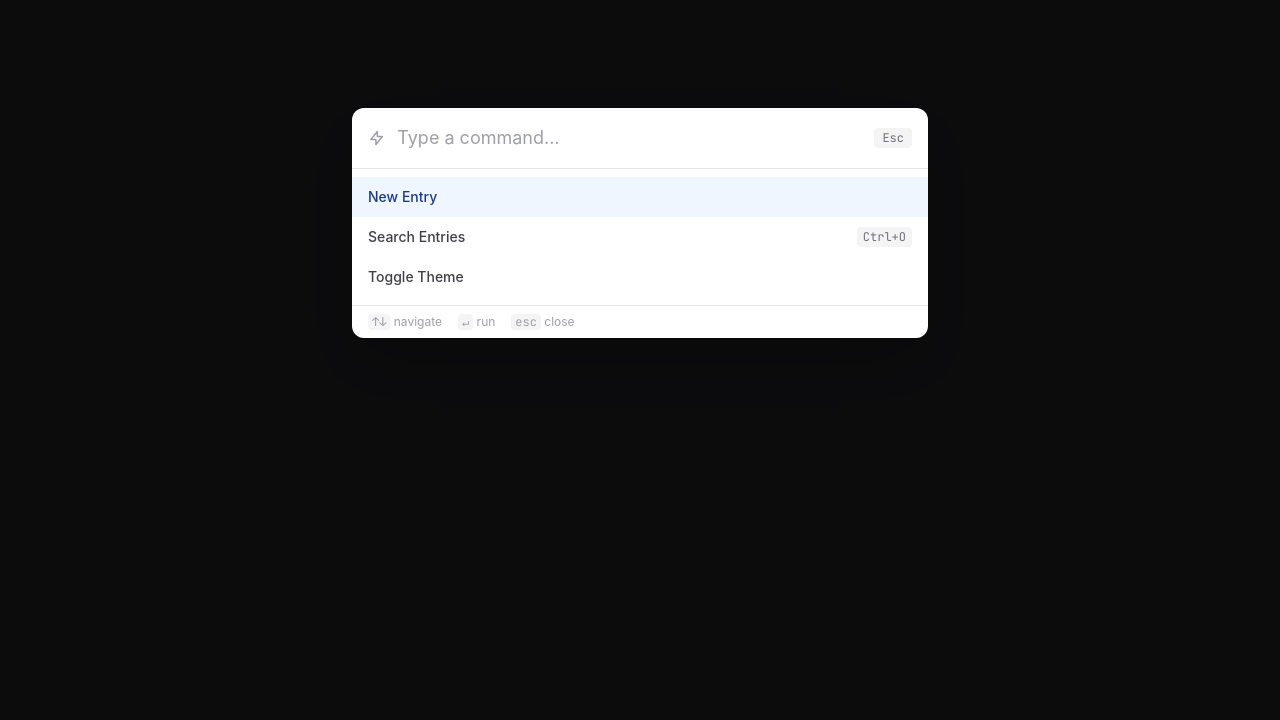
Test case: CommandPalette › filters actions with fuzzy matching
Type "theme" into the dropdown with test id "command-palette-input" at [632, 138], box 397,108 -> 866,168
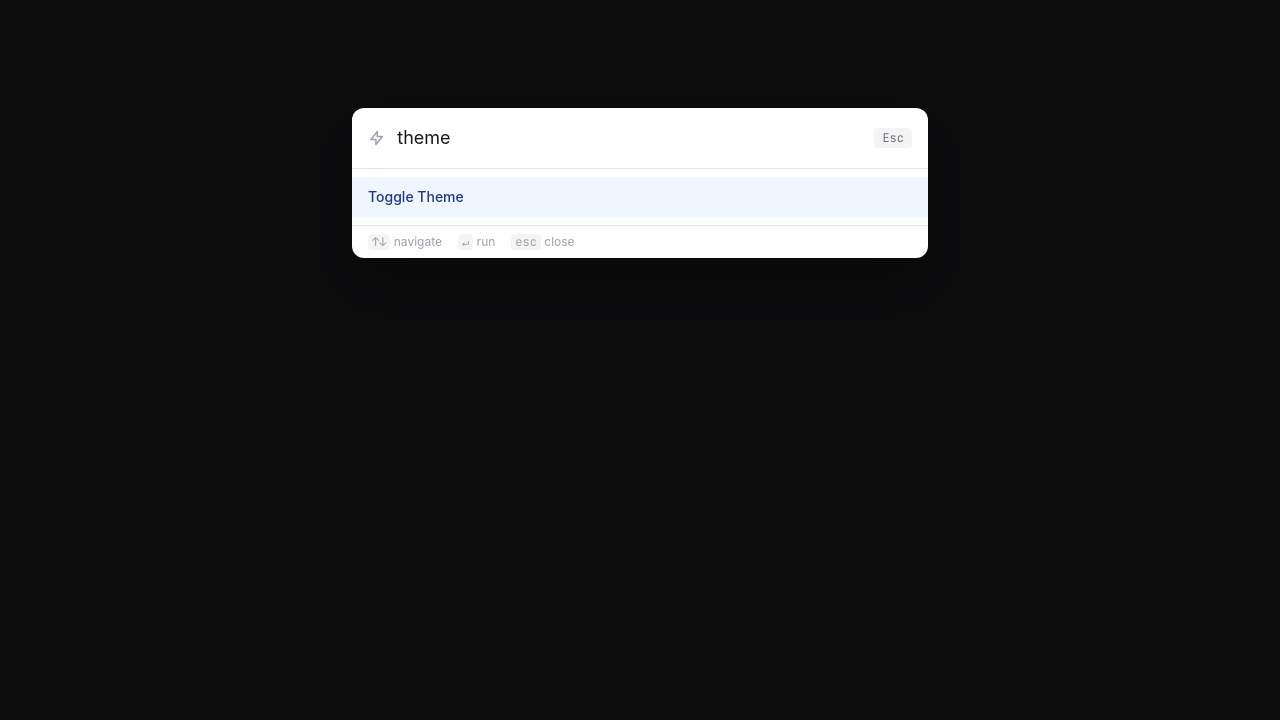
Expected: the text "Toggle Theme" is shown, 368,187 -> 464,207
Expected: the option "New Entry" is gone
